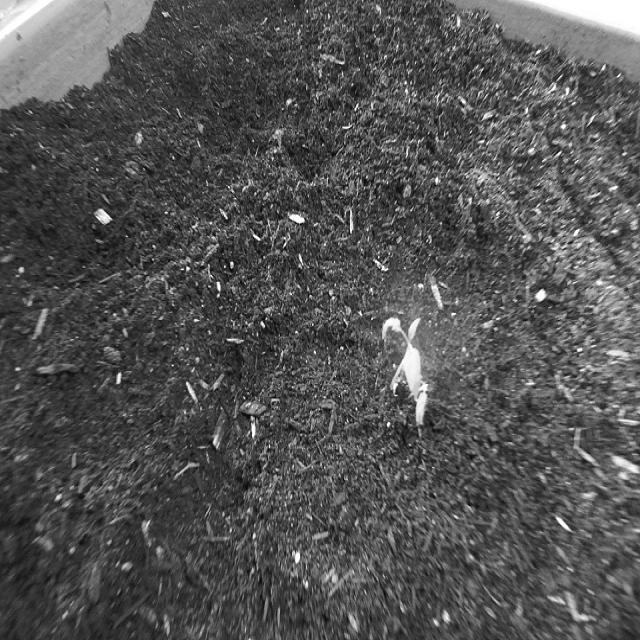Healthy: (373, 287, 440, 449)
